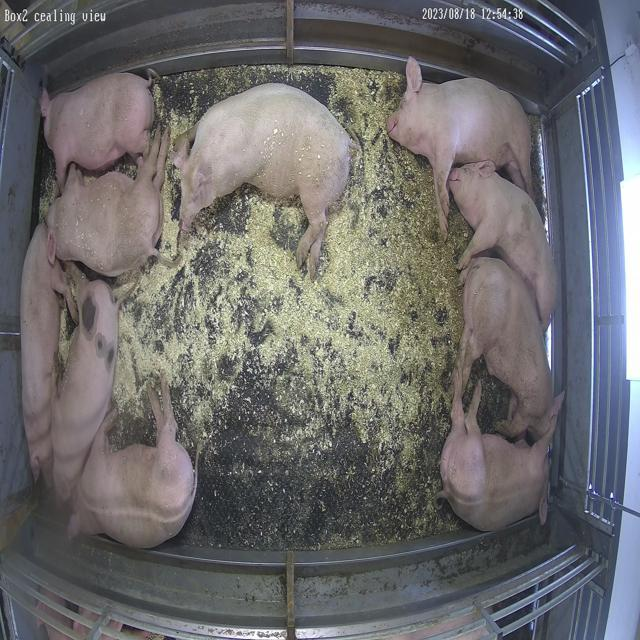Pig: (175, 83, 351, 276), (388, 56, 533, 236), (68, 381, 196, 548), (454, 258, 555, 441), (449, 161, 558, 326), (48, 130, 169, 276), (441, 384, 554, 532), (52, 280, 118, 502), (40, 72, 154, 188), (20, 224, 66, 480)
